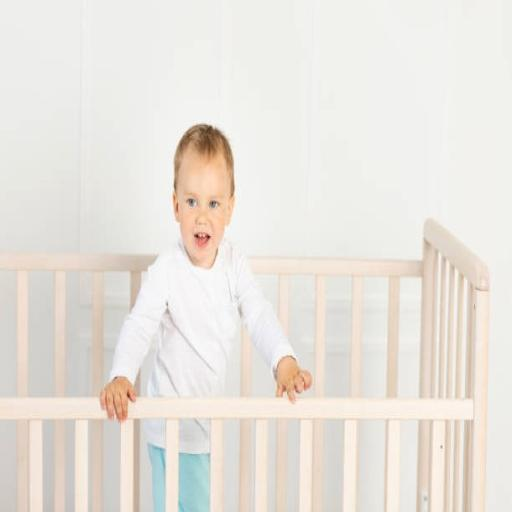baby: (100, 124, 312, 421)
crib: (115, 220, 489, 511)
